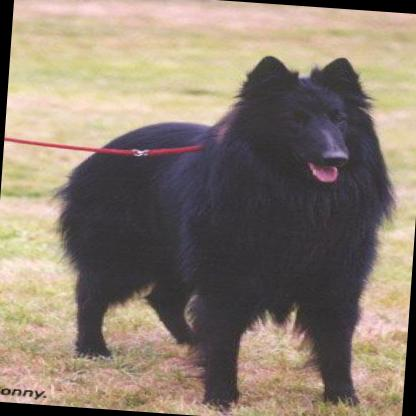groenendael: (29, 35, 403, 416)
